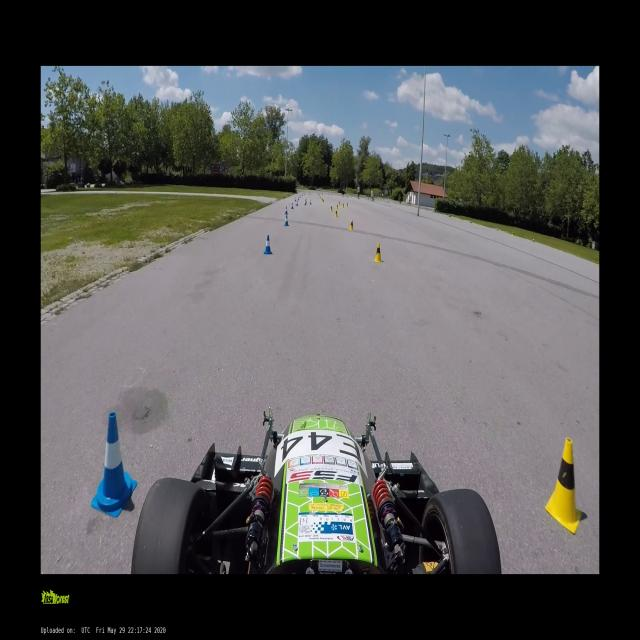blue_cone: (91, 415, 138, 518), (263, 235, 272, 255), (284, 215, 289, 227), (285, 206, 288, 216), (290, 202, 294, 209), (296, 201, 298, 206), (309, 200, 311, 204)
yellow_cone: (545, 442, 585, 532), (372, 243, 383, 264), (348, 220, 354, 231), (329, 205, 333, 212), (334, 209, 337, 218), (511, 231, 514, 237), (321, 199, 324, 203), (342, 203, 344, 208), (336, 204, 338, 209), (346, 202, 348, 207), (339, 202, 341, 206)
